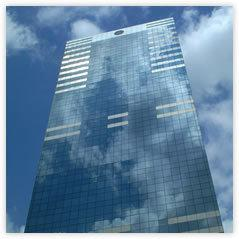building: (23, 16, 224, 233)
